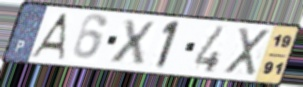1: (156, 20, 183, 72)
4: (192, 24, 225, 74)
6: (70, 12, 109, 66)
A: (28, 12, 71, 62)
X: (222, 26, 272, 77), (108, 18, 157, 66)
